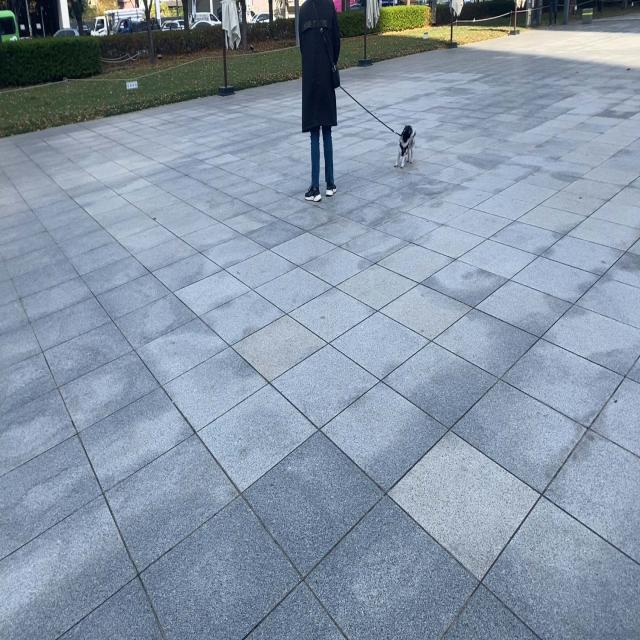Leashed_Dog: (322, 70, 417, 170)
